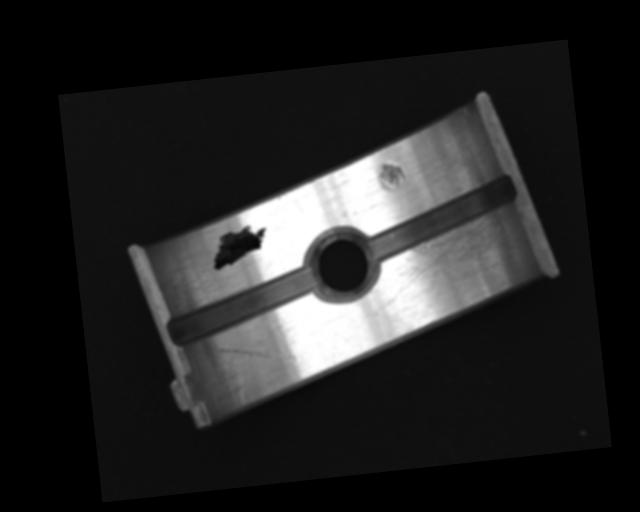blot: (209, 222, 271, 272)
bruise: (375, 161, 407, 194)
gap: (362, 175, 522, 263), (164, 265, 323, 347)
hole: (304, 228, 380, 303)
nick: (213, 338, 298, 370)
scratch: (378, 211, 531, 306)
